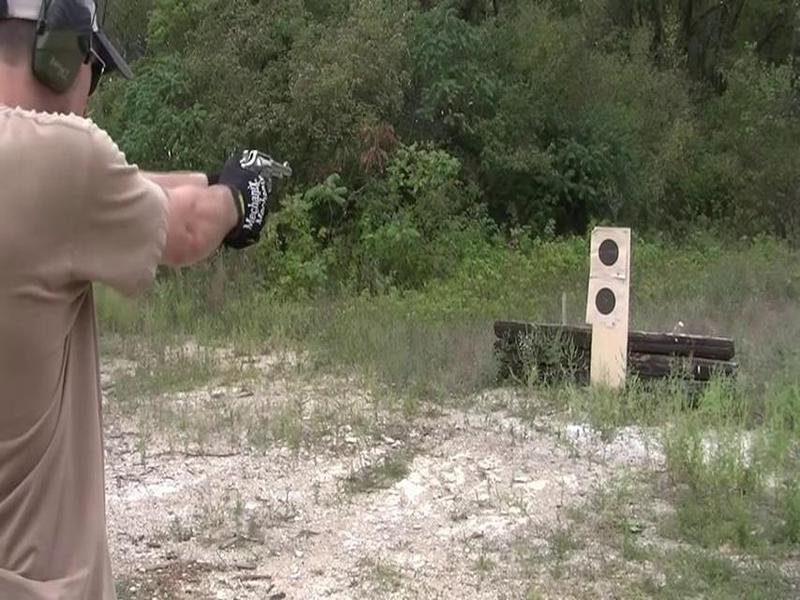Revolver: (224, 141, 300, 217)
